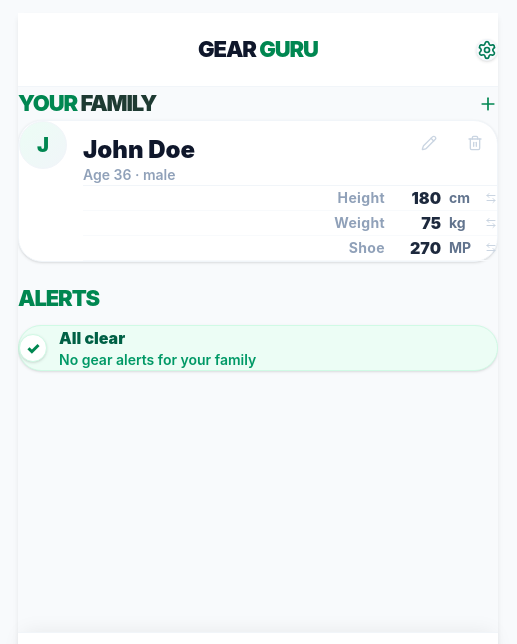
App Integration › with members loaded › navigates to member detail on card click
Click the text "John Doe" at [139, 150], box [83,135,195,165]
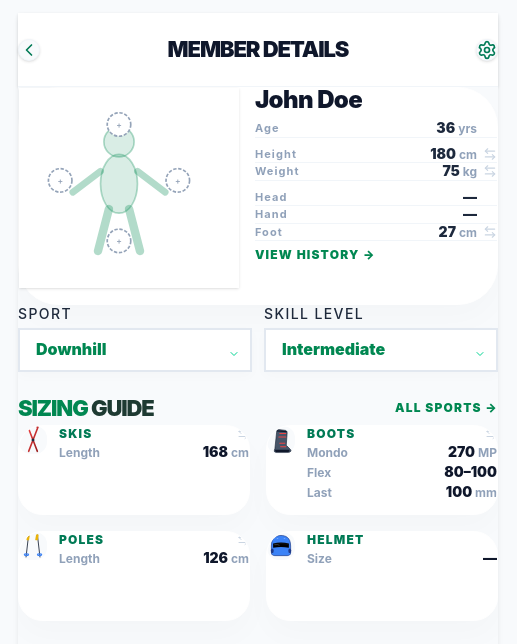
expect the heading "Member Details" is shown: met, box [168,33,348,66]
